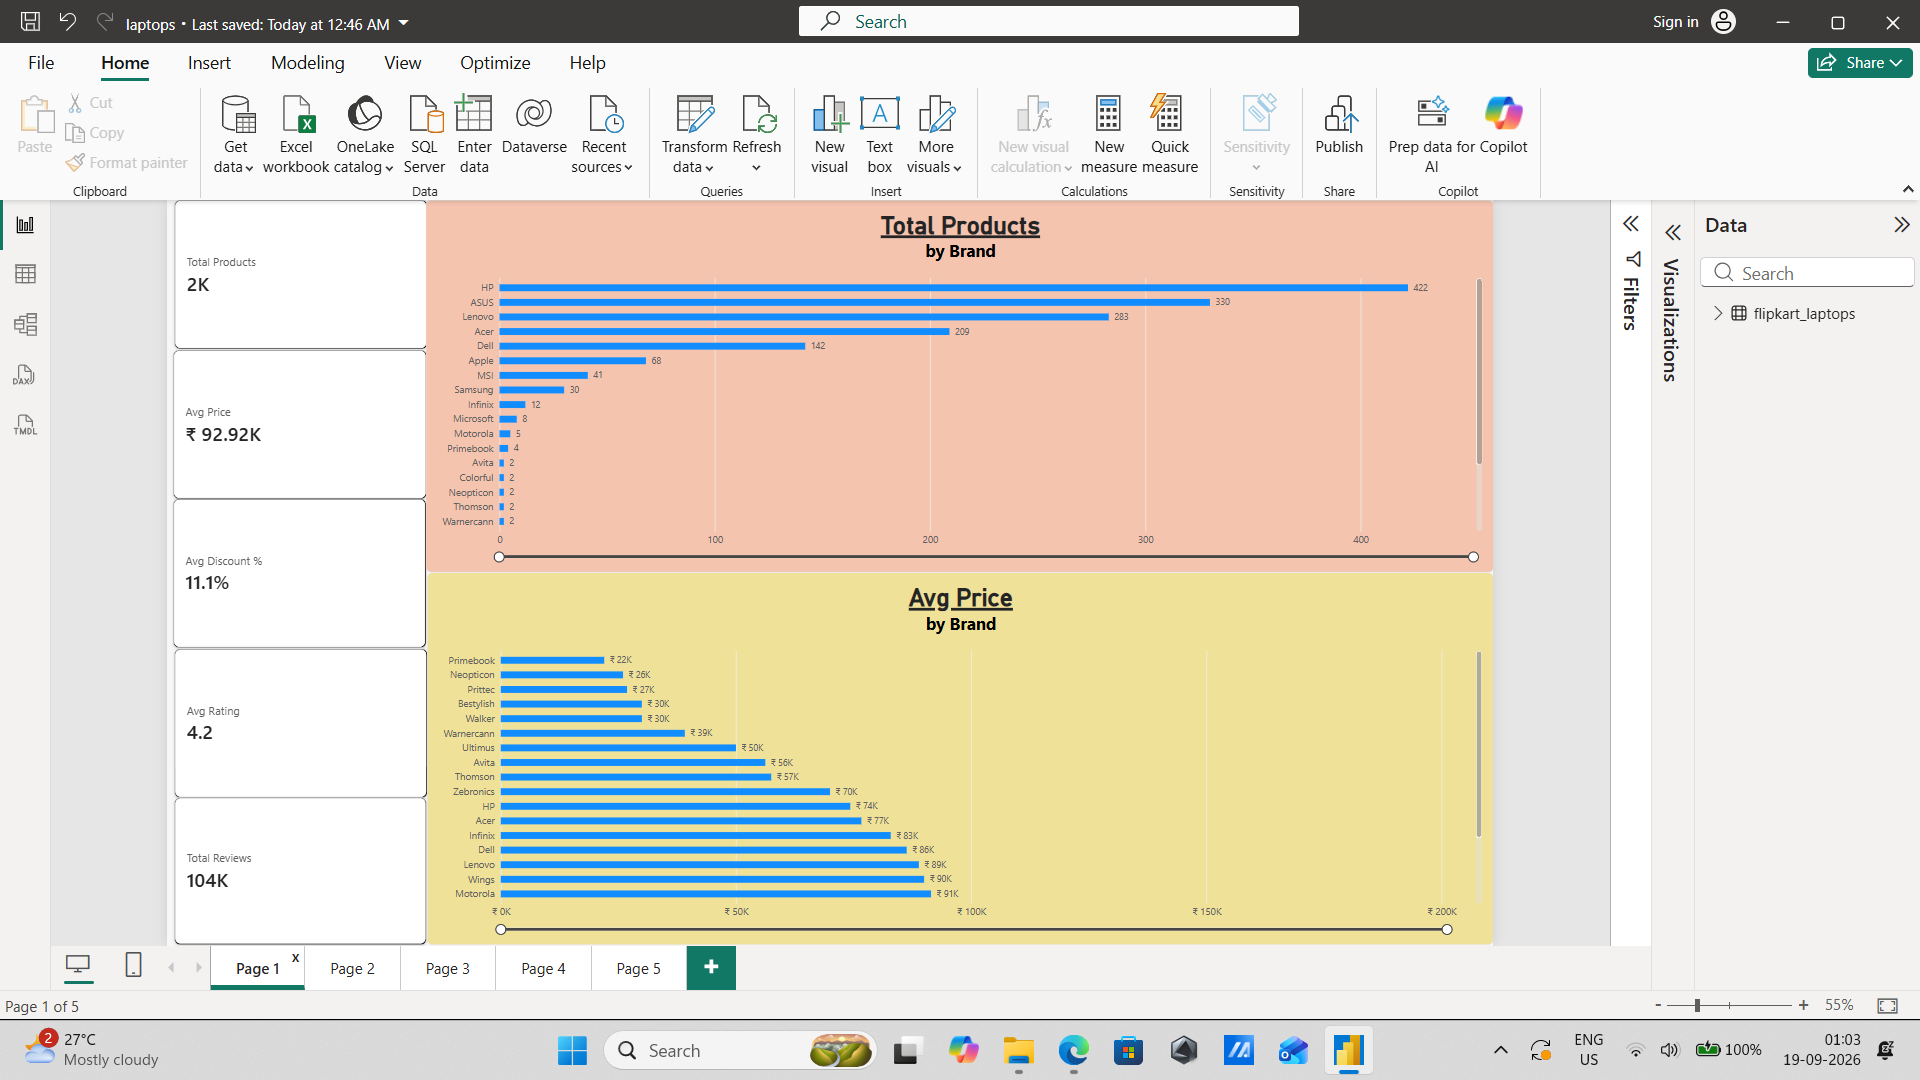

The dashboard page shown, as its layout file describes it:
{"tool":"powerbi","page":{"name":"Page 1","canvas":[1920,1080],"ordinal":0},"visuals":[{"type":"cardVisual","fields":{"Data":["flipkart_laptops.Total Products"]},"box":[10.3,0,366.4,216.1],"z":0},{"type":"cardVisual","fields":{"Data":["flipkart_laptops.Avg Price"]},"box":[9.3,216.3,367.4,216.3],"z":1},{"type":"cardVisual","fields":{"Data":["flipkart_laptops.Avg Discount %"]},"box":[9.3,432.6,366,216],"z":2},{"type":"cardVisual","fields":{"Data":["flipkart_laptops.Avg Rating"]},"box":[11.6,648.8,366,216],"z":3},{"type":"cardVisual","fields":{"Data":["flipkart_laptops.Total Reviews"]},"box":[11.6,865.1,365.1,214],"z":4},{"type":"clusteredBarChart","fields":{"Category":["flipkart_laptops.Brand"],"Y":["flipkart_laptops.Total Products"]},"box":[374.4,0,1546.5,539.5],"z":5},{"type":"clusteredBarChart","fields":{"Category":["flipkart_laptops.Brand"],"Y":["flipkart_laptops.Avg Price"]},"box":[376.7,539.5,1544.2,539.5],"z":6}]}

Visuals, with their boxes on the page's 1920x1080 design canvas (x1, y1, x2, y2). These are canvas units, not pixel positions in the 1920x1080 screenshot, which may show the page scaled, cropped or inside an application window:
cardVisual - flipkart_laptops.Total Products: {"x1": 10, "y1": 0, "x2": 377, "y2": 216}
cardVisual - flipkart_laptops.Avg Price: {"x1": 9, "y1": 216, "x2": 377, "y2": 433}
cardVisual - flipkart_laptops.Avg Discount %: {"x1": 9, "y1": 433, "x2": 375, "y2": 649}
cardVisual - flipkart_laptops.Avg Rating: {"x1": 12, "y1": 649, "x2": 378, "y2": 865}
cardVisual - flipkart_laptops.Total Reviews: {"x1": 12, "y1": 865, "x2": 377, "y2": 1079}
clusteredBarChart - flipkart_laptops.Brand x flipkart_laptops.Total Products: {"x1": 374, "y1": 0, "x2": 1921, "y2": 540}
clusteredBarChart - flipkart_laptops.Brand x flipkart_laptops.Avg Price: {"x1": 377, "y1": 540, "x2": 1921, "y2": 1079}
